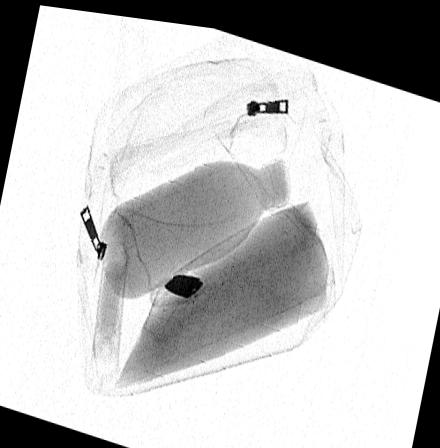Knife: (162, 268, 204, 293)
